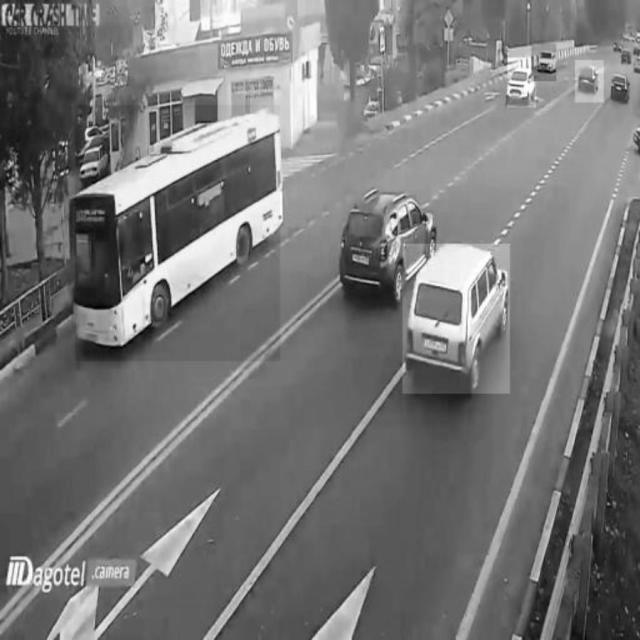vehicle: (76, 105, 281, 361), (403, 244, 511, 394), (342, 190, 430, 301), (75, 142, 109, 184), (508, 58, 536, 108), (575, 61, 603, 103), (608, 66, 633, 108), (532, 45, 557, 82)
